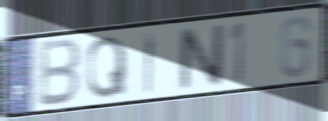1: (227, 20, 246, 85)
6: (278, 13, 313, 80)
B: (36, 36, 83, 110)
I: (142, 30, 157, 96)
N: (177, 22, 226, 93)
Q: (85, 33, 129, 101)
